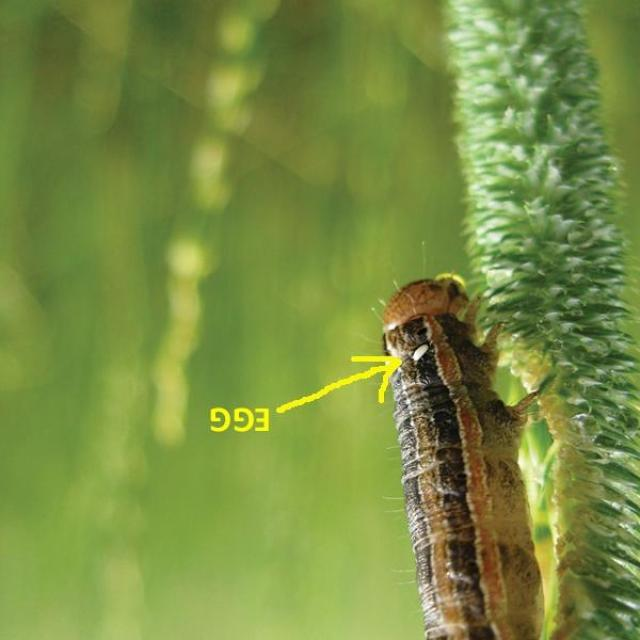army worm: (365, 271, 543, 640)
